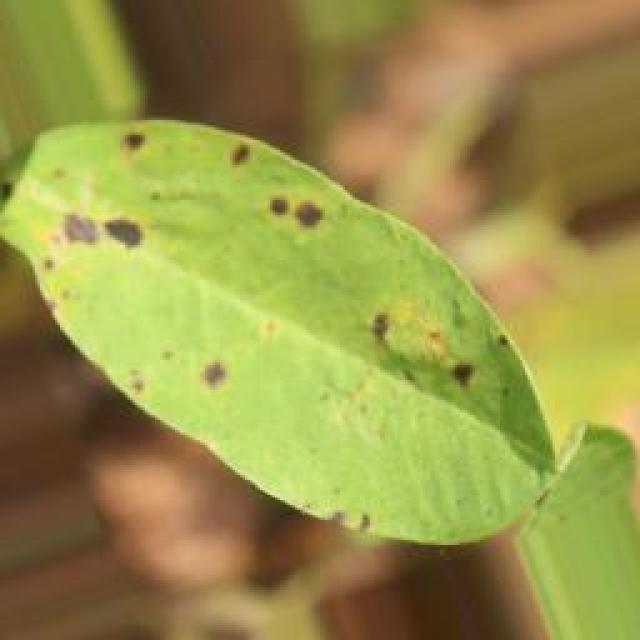Yellowish: (14, 90, 576, 560)
